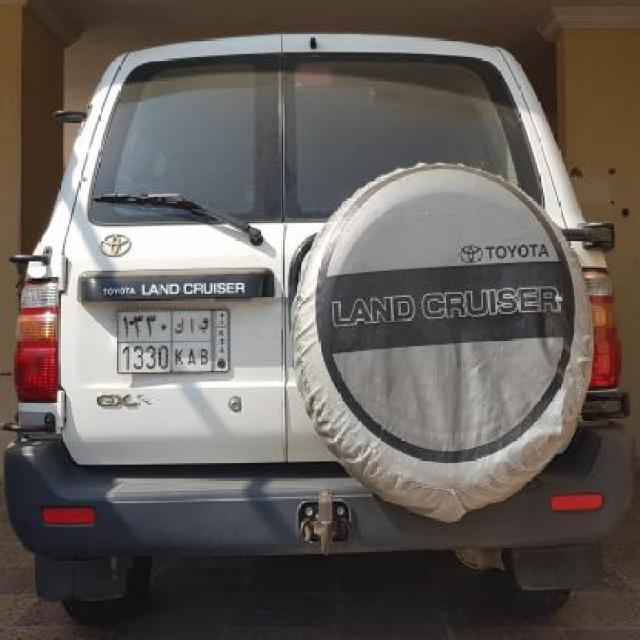license_plate: (115, 305, 234, 378)
